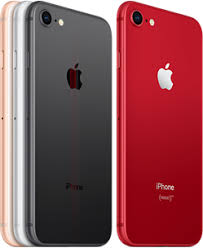iphone: (112, 1, 201, 248)
iphone8: (114, 1, 203, 248)
